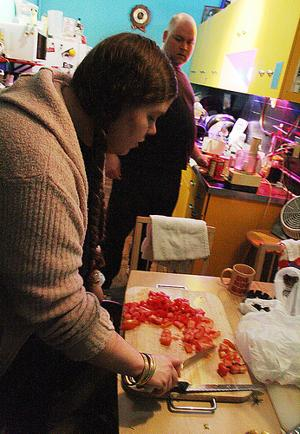person: (1, 29, 179, 434)
